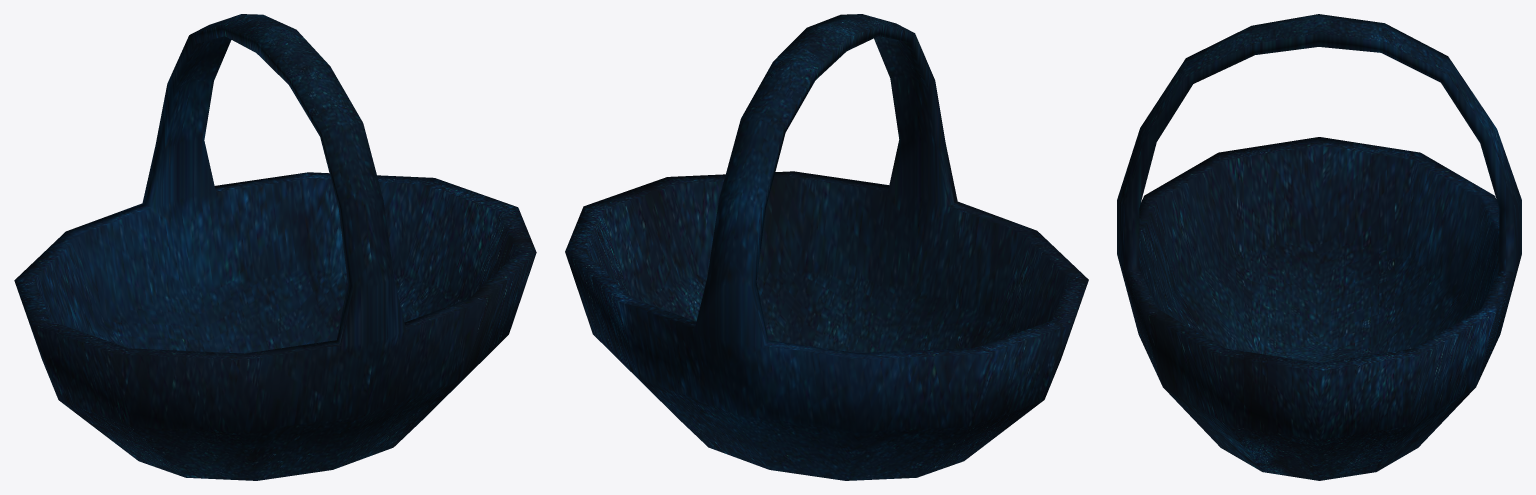
The model's file is Spirit05Basket.fbx.
3 views of the same model, side by side, from view 1: azimuth 30°, elevation 25°; view 2: azimuth 150°, elevation 25°; view 3: azimuth 270°, elevation 25° (orthographic).
Visible parts, largest first — view 1: Cylinder.001; view 2: Cylinder.001; view 3: Cylinder.001.
Part boxes in pixels (bbox=[...]): Cylinder.001: bbox=[14, 14, 536, 480]; Cylinder.001: bbox=[565, 14, 1088, 480]; Cylinder.001: bbox=[1117, 14, 1521, 480].
Size of the model in its own units: 108 by 85.17 by 78.64.
Materials: 1 (1 with a texture image).
